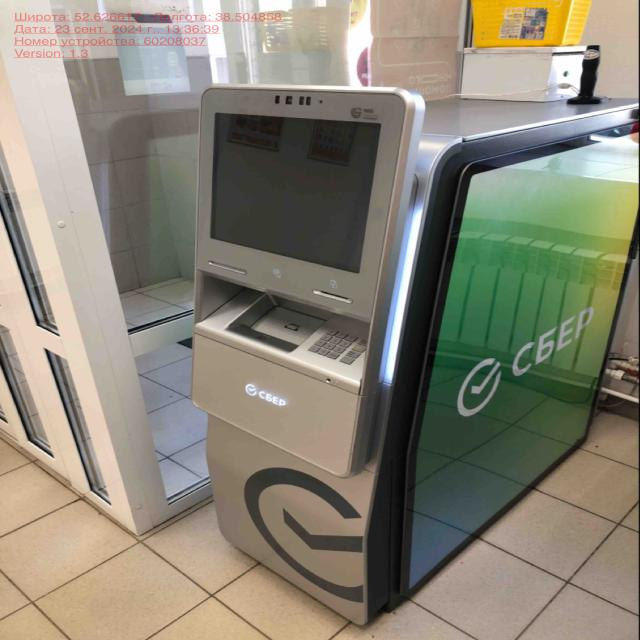bank: (186, 77, 640, 626)
